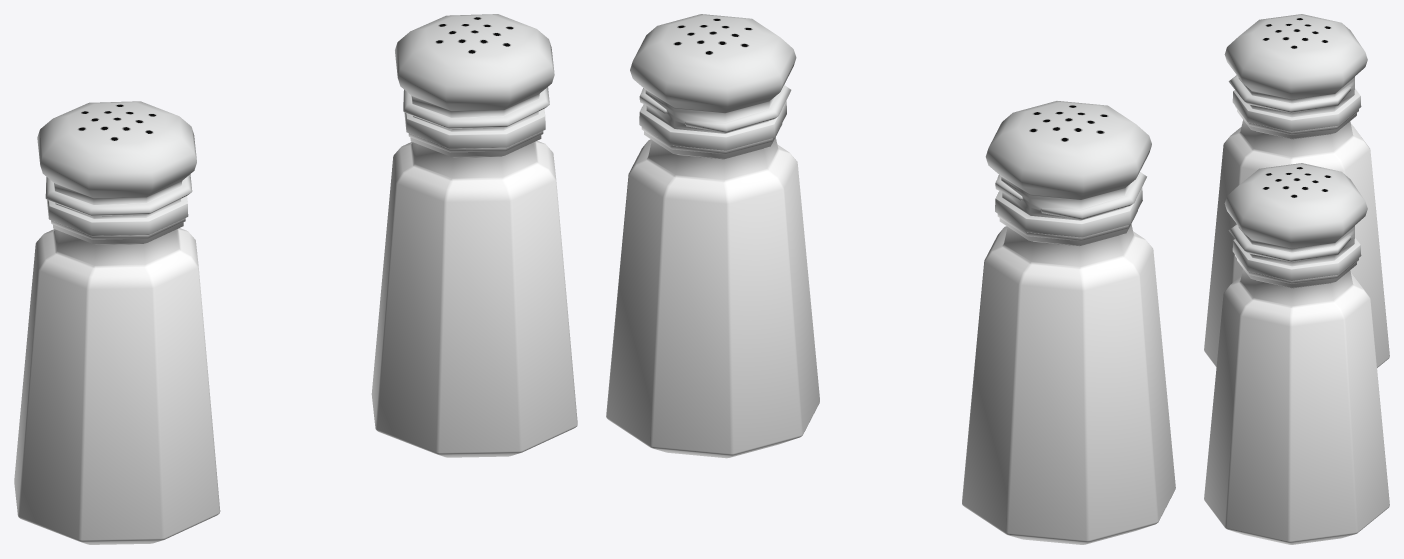
The model's file is Salt Shakers.fbx.
3 views of the same model, side by side, from view 1: azimuth 30°, elevation 25°; view 2: azimuth 150°, elevation 25°; view 3: azimuth 270°, elevation 25° (orthographic). The views are drawn at different scales.
Visible parts, largest first — view 1: Shaker Glass, Shaker Glass.001, Lid.001, Lid; view 2: Shaker Glass.001, Shaker Glass, Lid, Lid.001; view 3: Shaker Glass, Lid, Lid.001, Shaker Glass.001.
Part boxes in pixels (x1=…): Shaker Glass: x1=371, y1=131, x2=577, y2=457; Shaker Glass.001: x1=14, y1=218, x2=220, y2=544; Lid.001: x1=395, y1=14, x2=554, y2=148; Lid: x1=37, y1=101, x2=196, y2=235; Shaker Glass.001: x1=962, y1=210, x2=1175, y2=544; Shaker Glass: x1=606, y1=123, x2=819, y2=458; Lid: x1=985, y1=101, x2=1151, y2=237; Lid.001: x1=630, y1=14, x2=796, y2=150; Shaker Glass: x1=1204, y1=255, x2=1389, y2=544; Lid: x1=1224, y1=14, x2=1367, y2=131; Lid.001: x1=1224, y1=163, x2=1367, y2=280; Shaker Glass.001: x1=1204, y1=106, x2=1389, y2=367.
Size of the model in its own units: 14.03 by 9.66 by 4.84.
